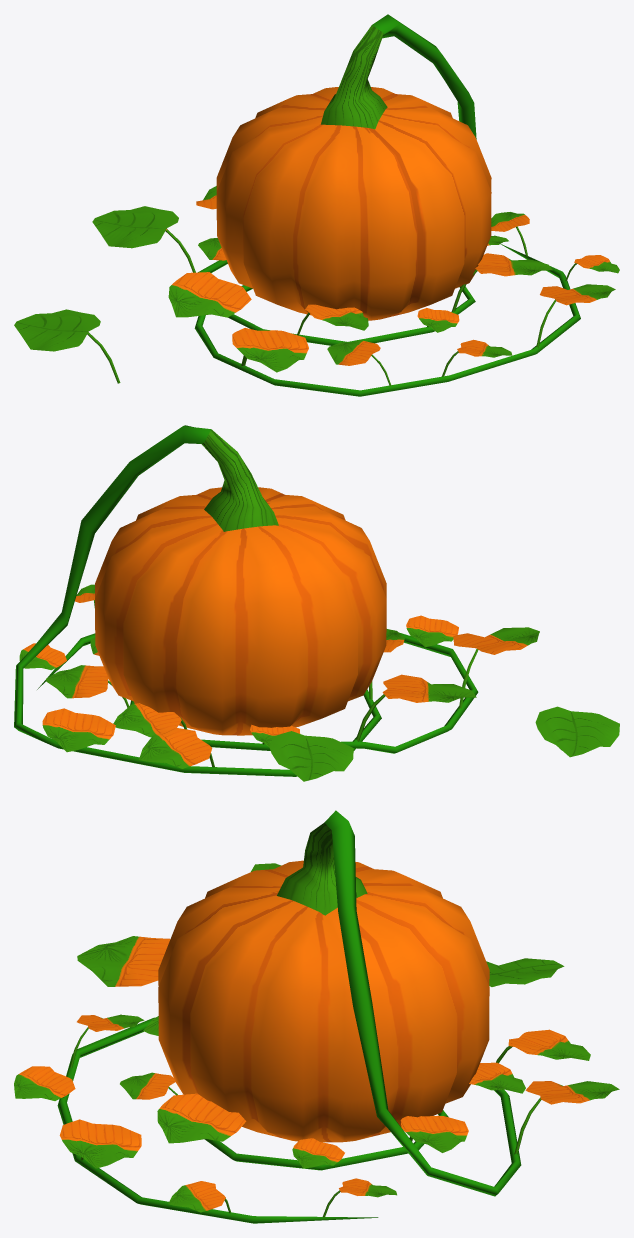
File: Pumpkin Stage 3.fbx
3 renders of one model, top to bottom at view 1: azimuth 30°, elevation 25°; view 2: azimuth 150°, elevation 25°; view 3: azimuth 270°, elevation 25°, orthographic. The views are drawn at different scales.
Parts seen in each view (by area): view 1: Pumpkin_Full_Grown, Pumpkin_Vines_Full_Grown, polySurface90, Pumpkin_Leaf_Main_Mesh, polySurface86, polySurface98, polySurface93, polySurface101, polySurface99, polySurface91, polySurface92, polySurface100 (+2 smaller); view 2: Pumpkin_Full_Grown, Pumpkin_Vines_Full_Grown, polySurface86, Pumpkin_Leaf_Main_Mesh, polySurface89, polySurface88, polySurface90, polySurface98, polySurface95, polySurface96, polySurface99, polySurface103 (+1 smaller); view 3: Pumpkin_Full_Grown, Pumpkin_Vines_Full_Grown, polySurface98, polySurface93, polySurface101, polySurface95, polySurface89, polySurface88, polySurface100, polySurface86, polySurface102, polySurface94 (+4 smaller).
Boxes of the visible parts, bbox=[...] form: Pumpkin_Full_Grown: bbox=[216, 25, 491, 320]; Pumpkin_Vines_Full_Grown: bbox=[194, 14, 580, 396]; polySurface90: bbox=[168, 272, 251, 317]; Pumpkin_Leaf_Main_Mesh: bbox=[14, 309, 120, 383]; polySurface86: bbox=[92, 206, 195, 272]; polySurface98: bbox=[232, 328, 308, 372]; polySurface93: bbox=[451, 253, 552, 311]; polySurface101: bbox=[536, 284, 615, 348]; polySurface99: bbox=[327, 340, 391, 386]; polySurface91: bbox=[297, 304, 368, 335]; polySurface92: bbox=[417, 308, 459, 332]; polySurface100: bbox=[442, 339, 512, 376]; Pumpkin_Full_Grown: bbox=[95, 429, 386, 735]; Pumpkin_Vines_Full_Grown: bbox=[14, 425, 478, 776]; polySurface86: bbox=[269, 731, 353, 781]; Pumpkin_Leaf_Main_Mesh: bbox=[535, 706, 619, 757]; polySurface89: bbox=[42, 708, 115, 752]; polySurface88: bbox=[139, 728, 214, 768]; polySurface90: bbox=[356, 674, 476, 741]; polySurface98: bbox=[453, 627, 539, 708]; polySurface95: bbox=[46, 665, 128, 707]; polySurface96: bbox=[113, 703, 187, 737]; polySurface99: bbox=[406, 615, 458, 647]; polySurface103: bbox=[19, 643, 66, 670]; Pumpkin_Full_Grown: bbox=[158, 822, 489, 1142]; Pumpkin_Vines_Full_Grown: bbox=[57, 810, 521, 1223]; polySurface98: bbox=[77, 936, 170, 986]; polySurface93: bbox=[157, 1093, 246, 1143]; polySurface101: bbox=[59, 1119, 141, 1168]; polySurface95: bbox=[400, 1115, 468, 1152]; polySurface89: bbox=[514, 1081, 619, 1154]; polySurface88: bbox=[496, 1029, 590, 1063]; polySurface100: bbox=[14, 1066, 75, 1100]; polySurface86: bbox=[486, 958, 564, 986]; polySurface102: bbox=[168, 1181, 230, 1213]; polySurface94: bbox=[292, 1138, 344, 1168].
Size of the model in its own units: 1.43 by 0.6731 by 1.14.
2 materials, 1 textured.
